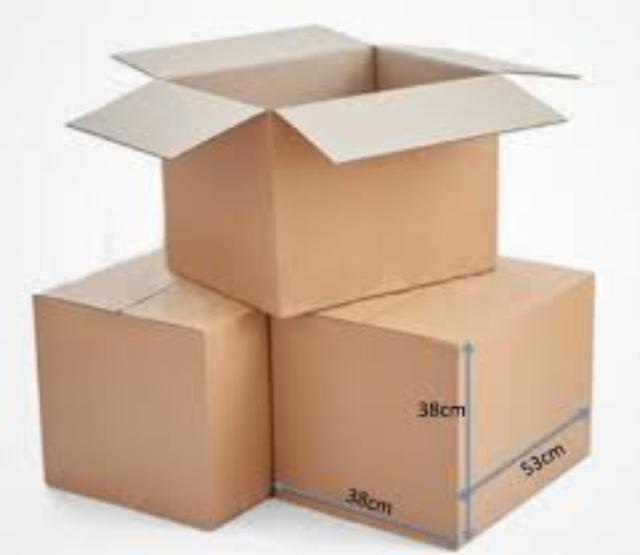cardboard paper: (32, 24, 587, 539), (66, 24, 558, 313), (268, 255, 587, 539), (32, 250, 266, 523)
